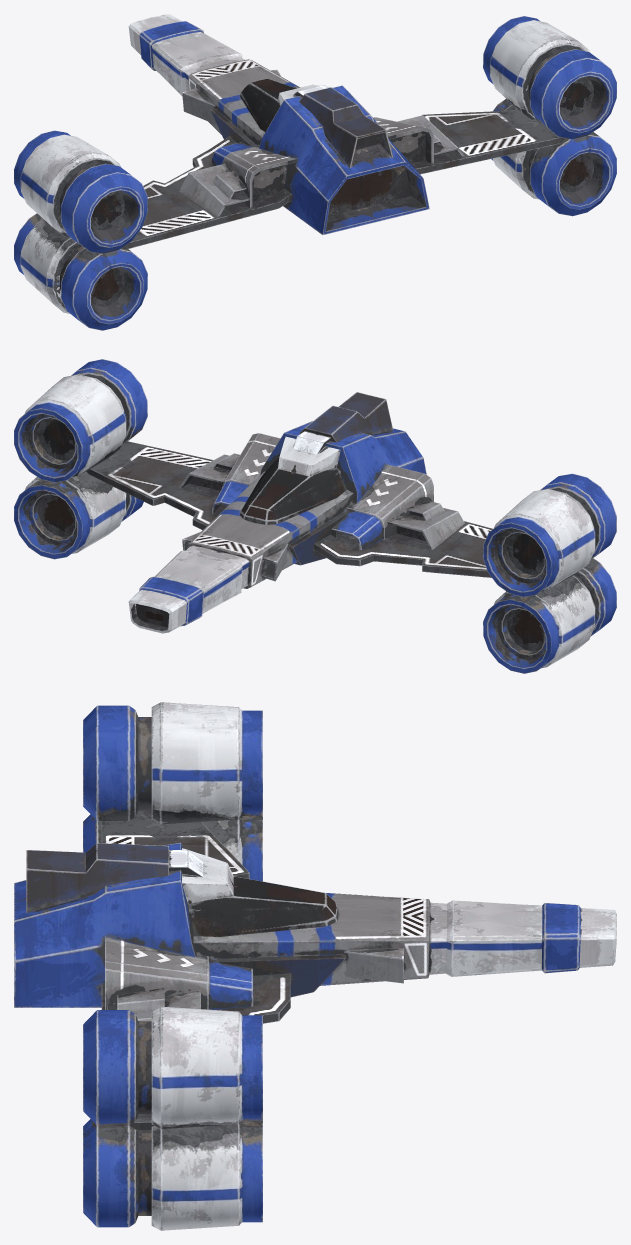
The model's file is spitfire.glb.
3 views of the same model, one above another, from view 1: azimuth 30°, elevation 25°; view 2: azimuth 150°, elevation 25°; view 3: azimuth 270°, elevation 25° (orthographic). The views are drawn at different scales.
Parts seen in each view (by area): view 1: Spitfire; view 2: Spitfire; view 3: Spitfire.
Boxes of the visible parts, x1,y1,x2,y2 form: Spitfire: [14, 14, 616, 330]; Spitfire: [14, 359, 616, 673]; Spitfire: [14, 702, 616, 1230].
Bounding box in the file's own units: 8.48 × 2.46 × 6.07.
1 material, 1 textured.
